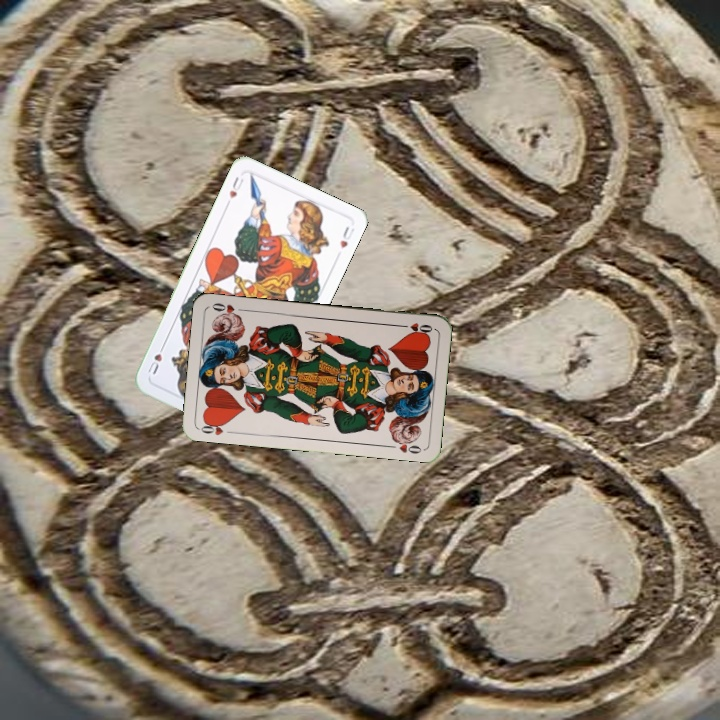HO: (197, 417, 237, 438), (395, 319, 435, 337)
HU: (225, 173, 246, 201)
